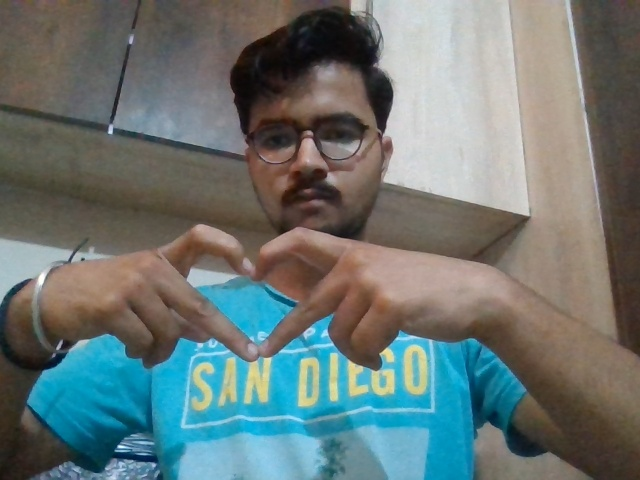iloveyou: (89, 216, 457, 384)
